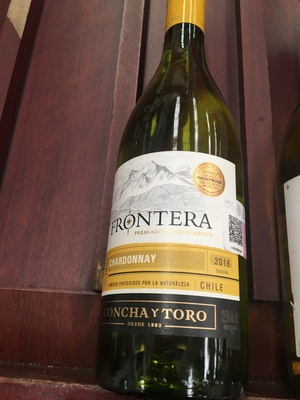frontera chardonnay: (88, 20, 257, 400)
